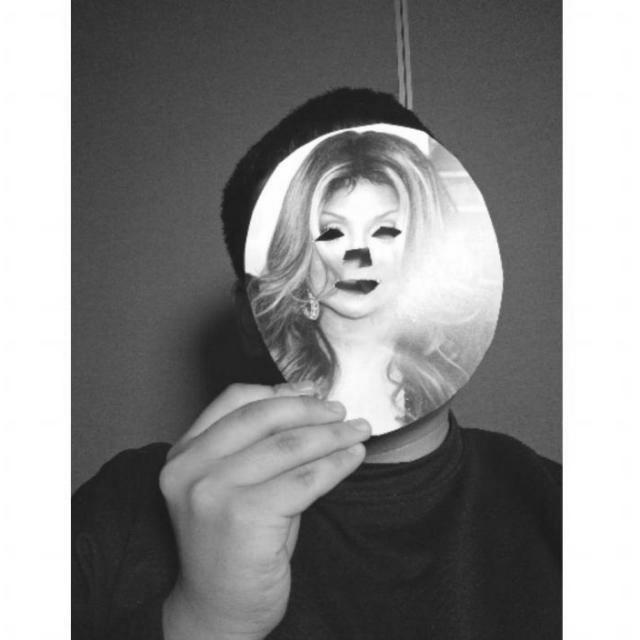fake: (242, 125, 504, 443)
